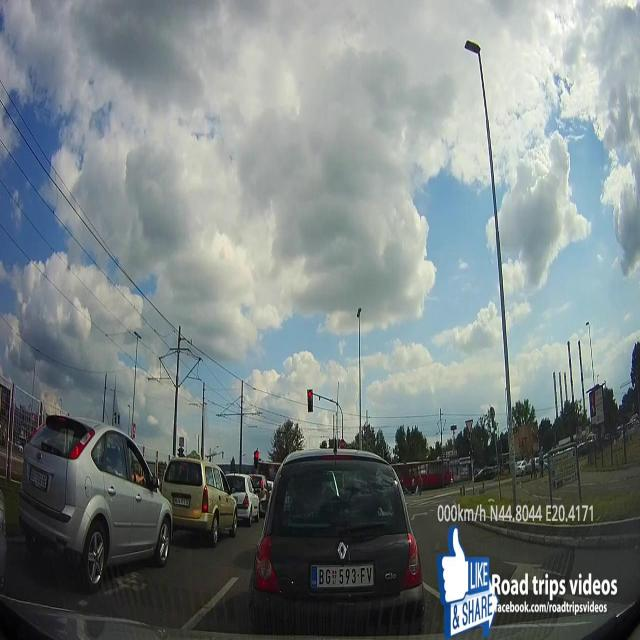License-plate: (310, 564, 377, 593)
